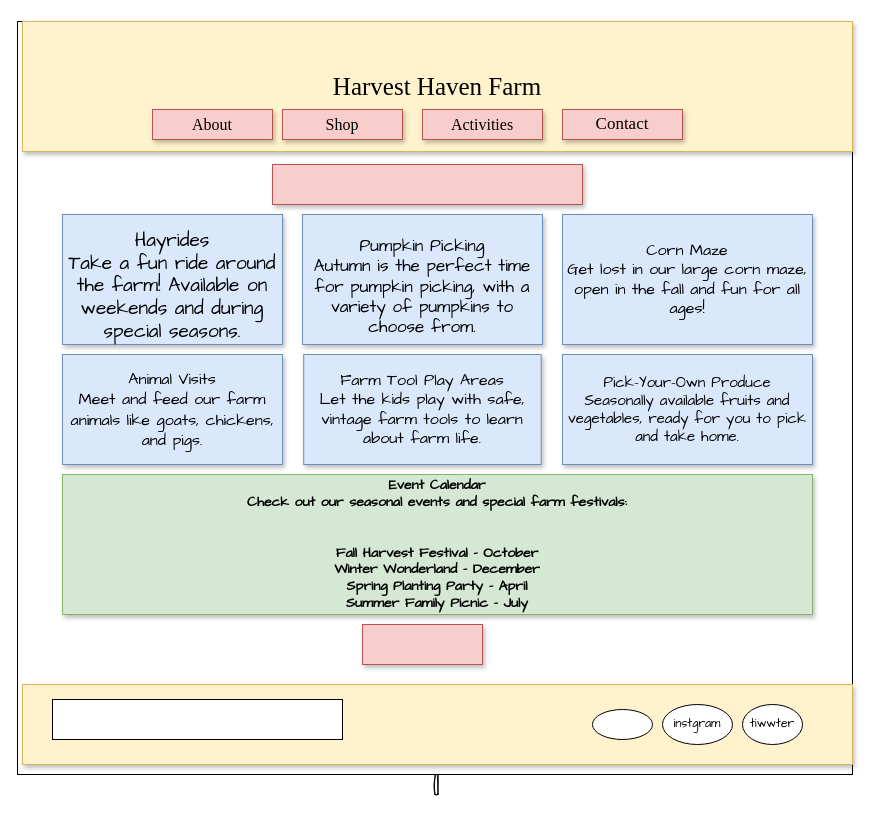
The diagram is 876 pixels wide and 820 high, and some of its shapes have lost their labels. Each missing label, with the centre of its shape:
2024 Farm Fun | All Rights Reserved: (x=197, y=719)
facebook: (x=622, y=724)
Farm Activities: (x=428, y=186)
Plan Your Visit: (x=423, y=646)
